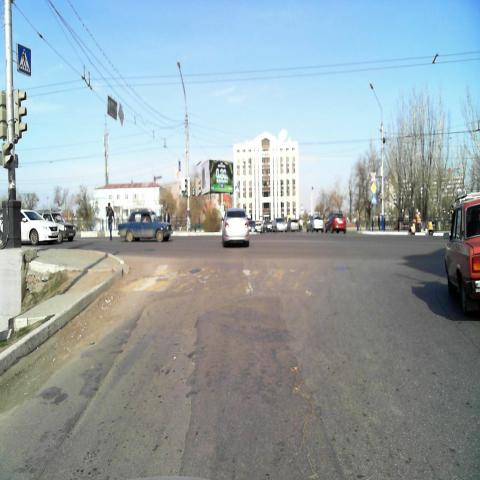1_11_1: (370, 171, 376, 180)
2_1: (370, 182, 377, 194)
5_19_1: (16, 42, 32, 77), (371, 194, 377, 205)
